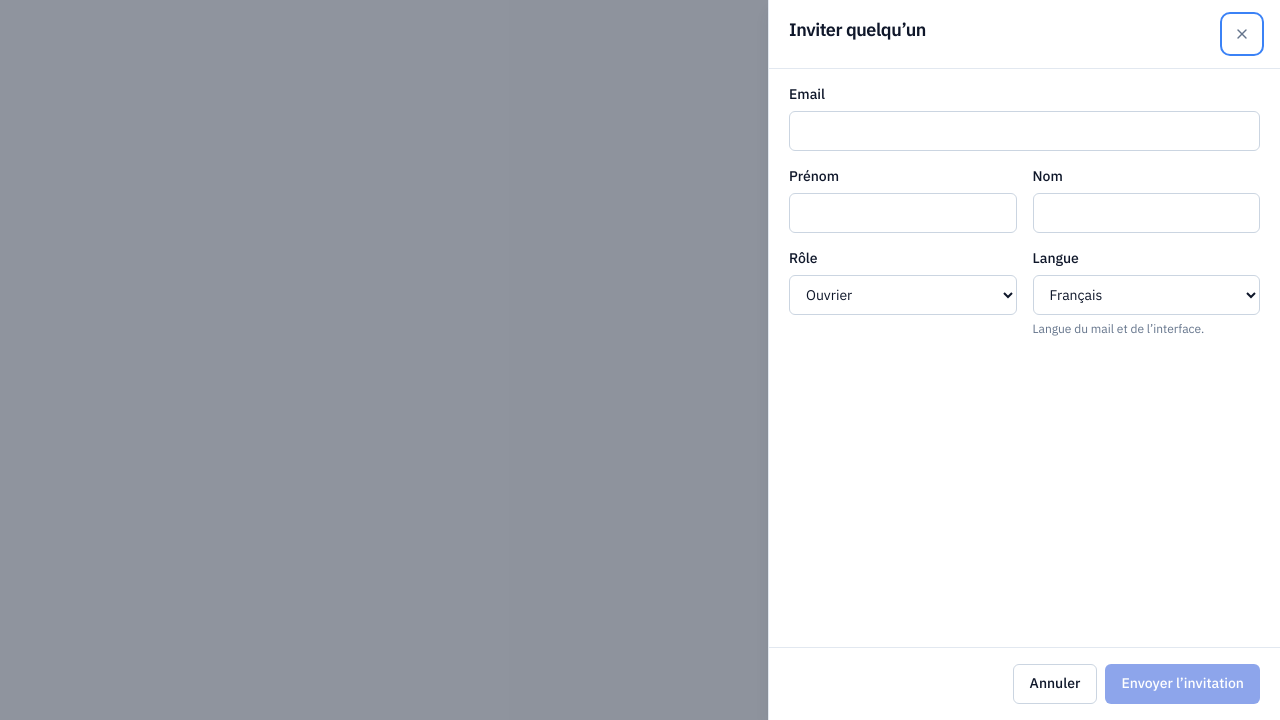
Test: InviteDrawer › shows the link afterwards, because the API hands it over only once
Step 1. Type "karim@exemple.fr" into the field labelled "Email" → (1024, 131), box [789, 111, 1260, 151]
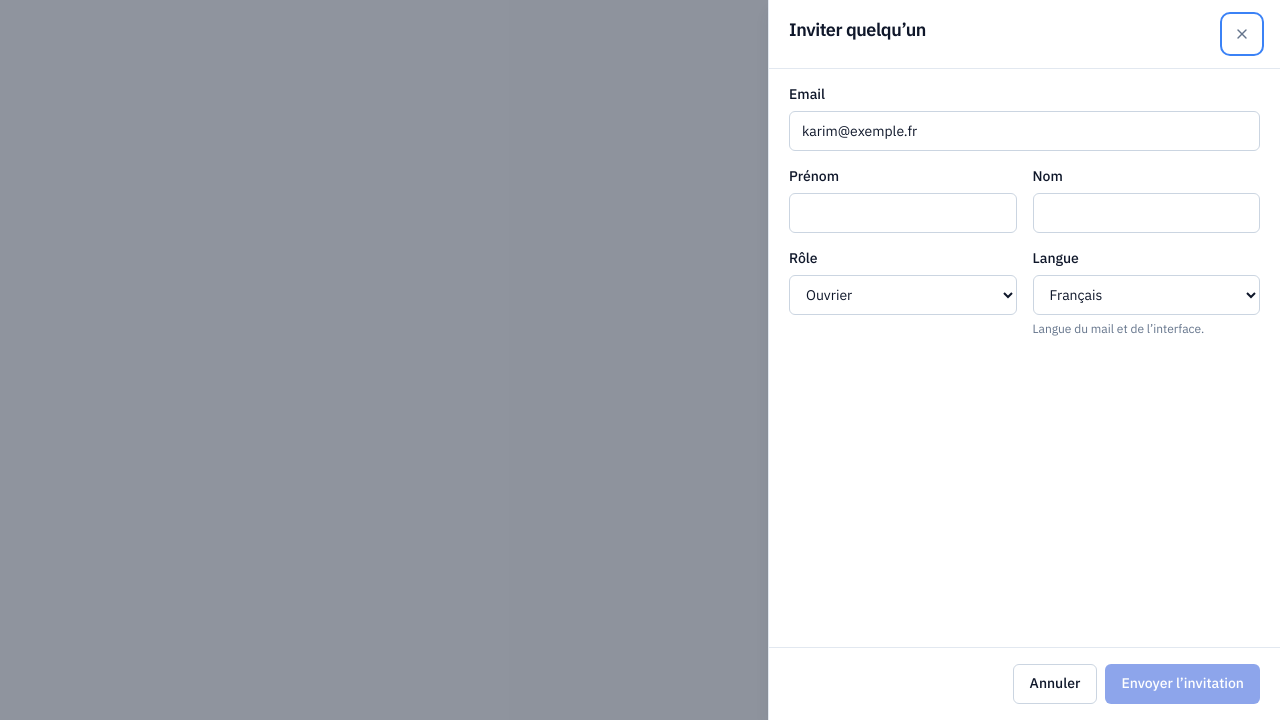
Step 2. Type "Karim" into the field labelled "Prénom" → (903, 213), box [789, 193, 1016, 233]
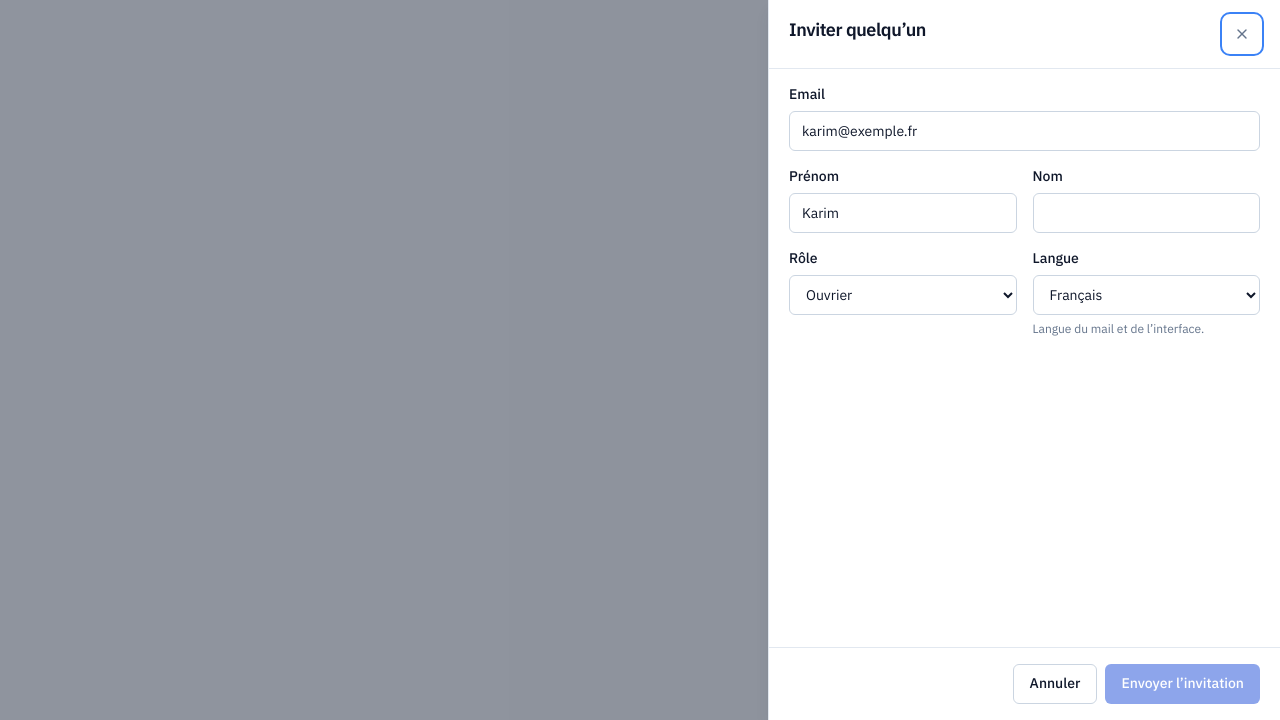
Step 3. Type "Benali" into the field labelled "Nom" → (1146, 213), box [1032, 193, 1260, 233]
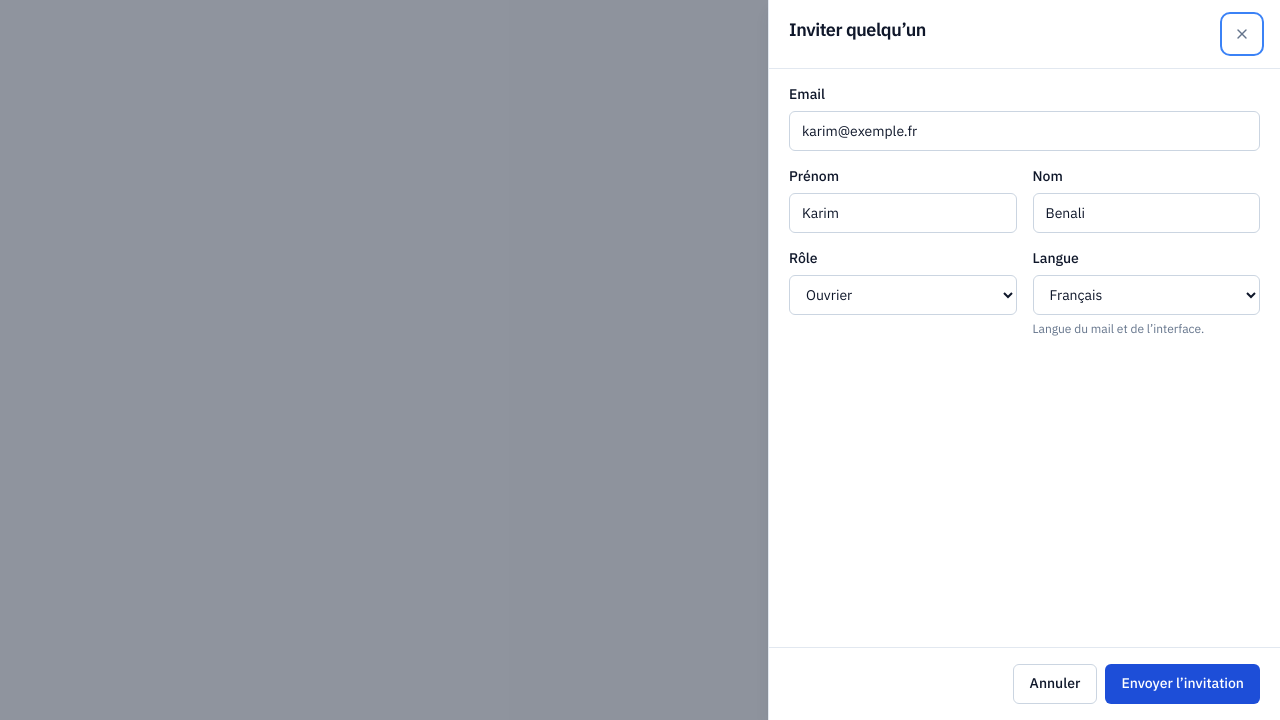
Step 4. Click the button "Envoyer l’invitation" → (1183, 684), box [1105, 664, 1260, 704]
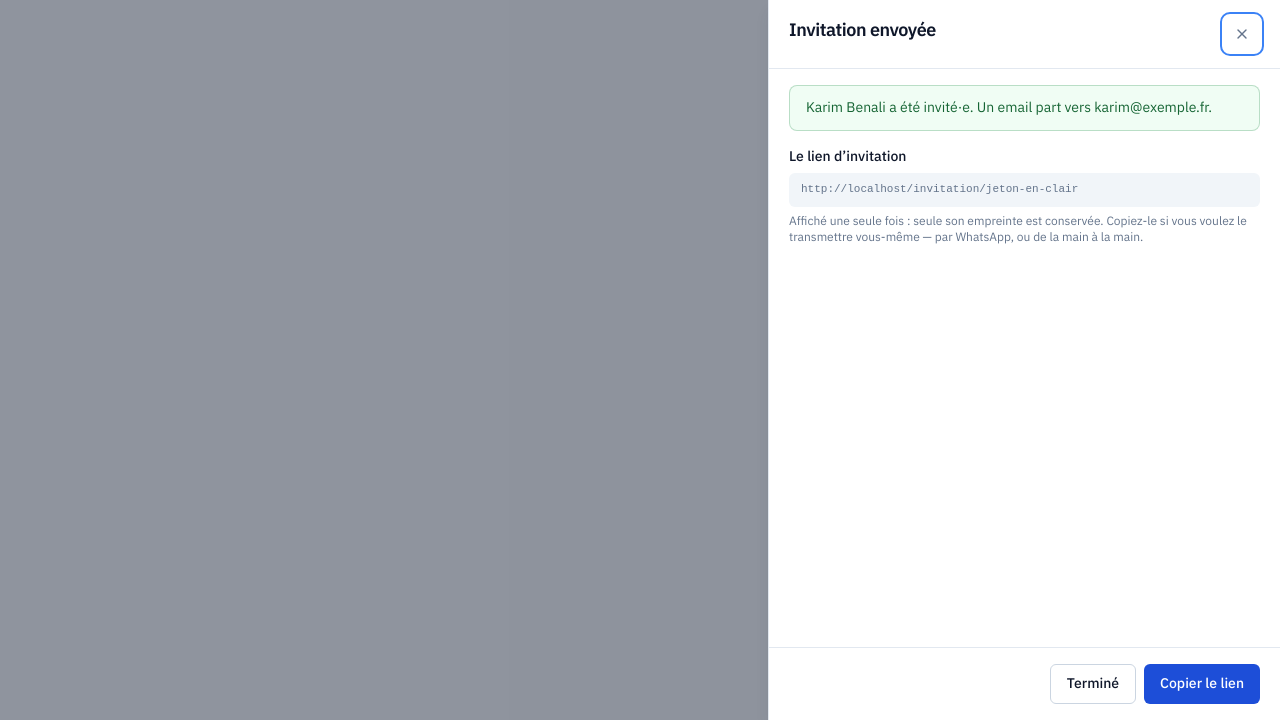
Expected: the text "http://localhost/invitation/jeton-en-clair" is shown, [801, 183, 1078, 195]
Expected: the text "Affiché une seule fois" is shown, [789, 212, 1247, 246]
Expected: the label labelled "Prénom" is gone
